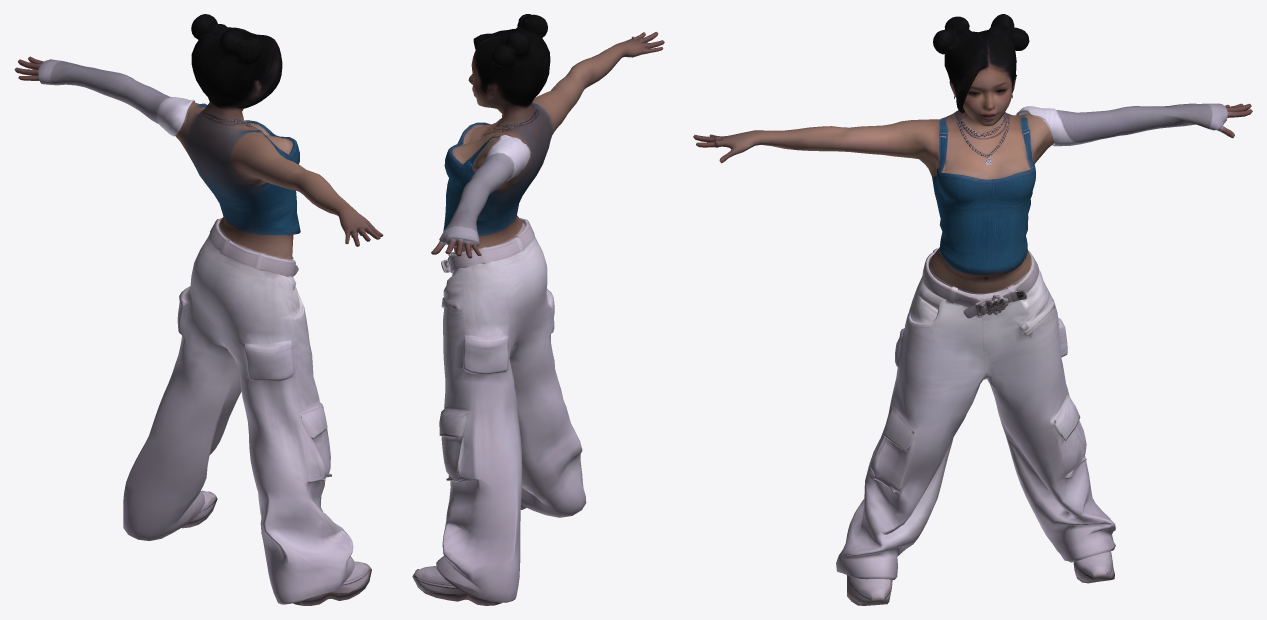
Rendered from femaledancer3dmodel.glb.
3 views of the same model, side by side, from view 1: azimuth 30°, elevation 25°; view 2: azimuth 150°, elevation 25°; view 3: azimuth 270°, elevation 25° (orthographic). The views are drawn at different scales.
Visible parts, largest first — view 1: tripo_node_69028a82-2978-4dee-8080-a26868d718b1; view 2: tripo_node_69028a82-2978-4dee-8080-a26868d718b1; view 3: tripo_node_69028a82-2978-4dee-8080-a26868d718b1.
Part boxes in pixels (<box>): tripo_node_69028a82-2978-4dee-8080-a26868d718b1: <box>14,14,383,605</box>; tripo_node_69028a82-2978-4dee-8080-a26868d718b1: <box>412,14,664,605</box>; tripo_node_69028a82-2978-4dee-8080-a26868d718b1: <box>693,14,1252,605</box>.
Bounding box in the file's own units: 0.3403 × 0.9995 × 0.9253.
Materials: 1 (1 with a texture image).
